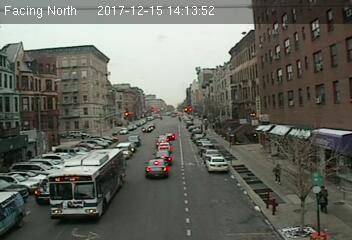bus: (46, 148, 125, 221)
car: (144, 158, 168, 178), (205, 155, 228, 173), (154, 150, 172, 165), (157, 142, 171, 150)
pedestrian: (318, 184, 329, 221), (271, 164, 282, 185)
truck: (1, 191, 27, 234)
